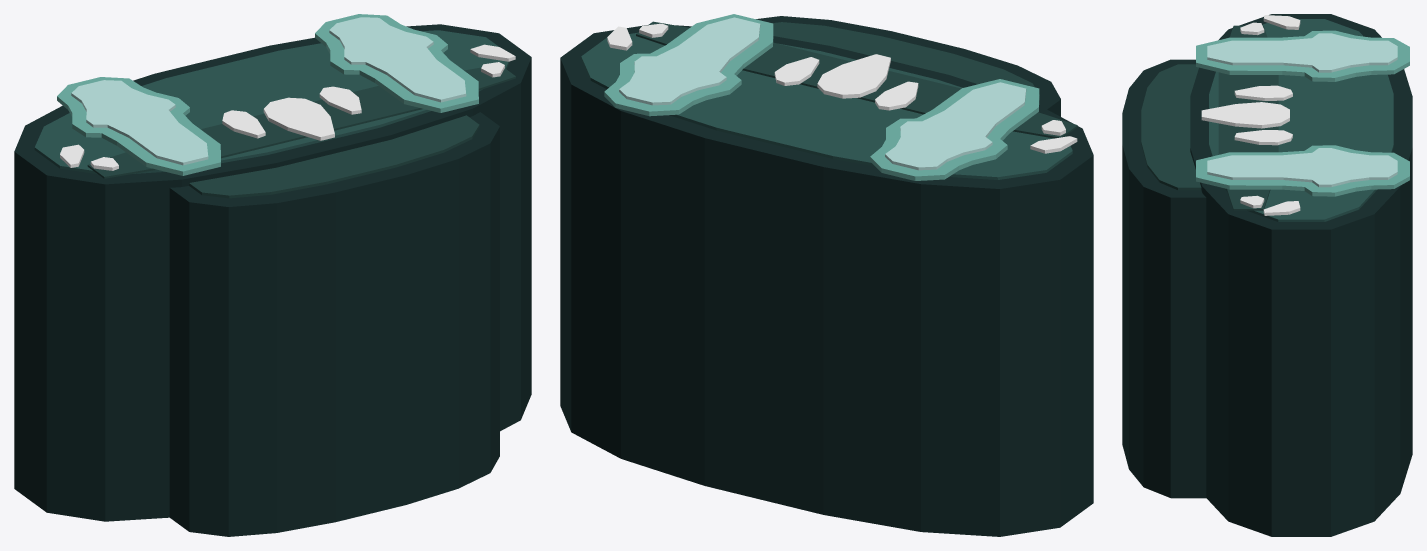
Rendered from bag_garras_gelo.fbx.
The picture shows the model from 3 angles, left to right: view 1: azimuth 30°, elevation 25°; view 2: azimuth 150°, elevation 25°; view 3: azimuth 270°, elevation 25°; orthographic projection. The views are drawn at different scales.
Visible parts, largest first — view 1: bag_garras_gelo_mochila; view 2: bag_garras_gelo_mochila; view 3: bag_garras_gelo_mochila.
Part boxes in pixels (<box>): bag_garras_gelo_mochila: <box>14,14,531,536</box>; bag_garras_gelo_mochila: <box>560,14,1093,536</box>; bag_garras_gelo_mochila: <box>1122,14,1412,536</box>.
Bounding box in the file's own units: 2.71 × 1.88 × 1.54.
Materials: 1 (1 with a texture image).
